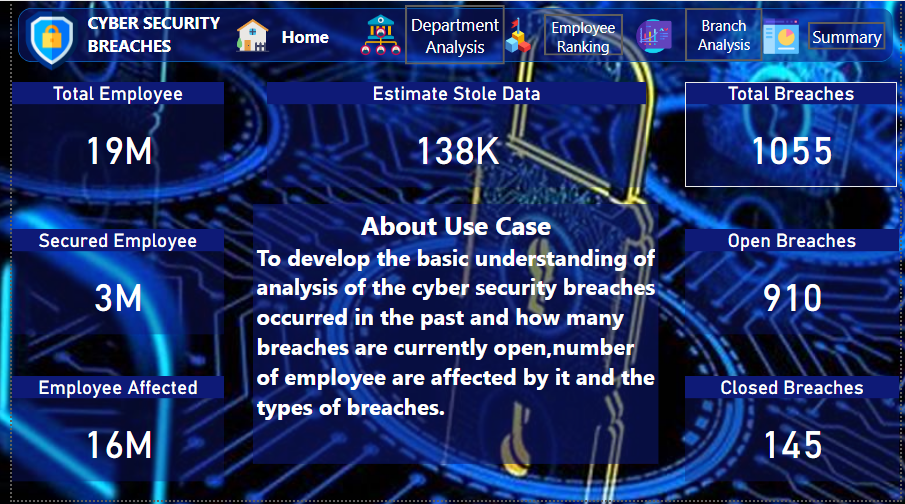

The page's visual inventory and layout, read from the dashboard file:
{"tool":"powerbi","page":{"name":"Home","canvas":[1280,720],"ordinal":0},"visuals":[{"type":"card","title":"Total Breaches","fields":{"Values":["Cyber Security Breaches.Total Breaches"]},"box":[971.1,116.8,305.8,152.1],"z":0},{"type":"card","title":"Open Breaches","fields":{"Values":["Cyber Security Breaches.Open Breaches"]},"box":[971.1,328.8,308.9,152.1],"z":1000},{"type":"card","title":"Closed Breaches","fields":{"Values":["Cyber Security Breaches.Closed Breaches"]},"box":[971.1,540.9,308.9,152.1],"z":2000},{"type":"card","title":"Estimate Stole Data","fields":{"Values":["Sum(Cyber Security Breaches.Estimate Stole Data(GB))"]},"box":[367.3,116.8,547,152.1],"z":3000},{"type":"card","title":"Employee Affected","fields":{"Values":["Cyber Security Breaches.Employee Affected"]},"box":[0,540.9,305.8,152.1],"z":4000},{"type":"card","title":"Secured Employee","fields":{"Values":["Cyber Security Breaches.Secured Employee"]},"box":[0,328.8,305.8,152.1],"z":5000},{"type":"card","title":"Total Employee","fields":{"Values":["Sum(Cyber Security Breaches.Total Indicviduals)"]},"box":[0,116.8,305.8,152.1],"z":6000},{"type":"shape","box":[9.2,10.8,1263.1,78.4],"z":7000},{"type":"image","box":[0,10.8,113.7,95.3],"z":8000},{"type":"image","box":[305.8,18.4,83,61.5],"z":9000},{"type":"image","box":[693,18.4,75.3,61.5],"z":10000},{"type":"image","box":[882,20,89.1,61.5],"z":11000},{"type":"image","box":[1066.4,20,86.1,61.5],"z":12000},{"type":"textbox","box":[104.5,10.8,201.3,95.3],"z":13000},{"type":"textbox","box":[347.3,293.5,585.5,374.9],"z":14000},{"type":"actionButton","box":[768.3,18.4,113.7,59.9],"z":15000},{"type":"actionButton","box":[971.1,10.8,112.2,76.8],"z":17000},{"type":"actionButton","box":[1147.9,30.7,112.2,40],"z":18000},{"type":"actionButton","box":[567,6.1,144.4,86.1],"z":18001},{"type":"image","box":[490.2,10.8,83,76.8],"z":18002},{"type":"textbox","box":[384.2,30.7,106,47.6],"z":18003}]}

Visuals, with their boxes on the page's 1280x720 design canvas (x1, y1, x2, y2). These are canvas units, not pixel positions in the 905x504 screenshot, which may show the page scaled, cropped or inside an application window:
"Total Breaches" card: (x1=971, y1=117, x2=1277, y2=269)
"Open Breaches" card: (x1=971, y1=329, x2=1280, y2=481)
"Closed Breaches" card: (x1=971, y1=541, x2=1280, y2=693)
"Estimate Stole Data" card: (x1=367, y1=117, x2=914, y2=269)
"Employee Affected" card: (x1=0, y1=541, x2=306, y2=693)
"Secured Employee" card: (x1=0, y1=329, x2=306, y2=481)
"Total Employee" card: (x1=0, y1=117, x2=306, y2=269)
shape: (x1=9, y1=11, x2=1272, y2=89)
image: (x1=0, y1=11, x2=114, y2=106)
image: (x1=306, y1=18, x2=389, y2=80)
image: (x1=693, y1=18, x2=768, y2=80)
image: (x1=882, y1=20, x2=971, y2=82)
image: (x1=1066, y1=20, x2=1152, y2=82)
textbox: (x1=104, y1=11, x2=306, y2=106)
textbox: (x1=347, y1=294, x2=933, y2=668)
actionButton: (x1=768, y1=18, x2=882, y2=78)
actionButton: (x1=971, y1=11, x2=1083, y2=88)
actionButton: (x1=1148, y1=31, x2=1260, y2=71)
actionButton: (x1=567, y1=6, x2=711, y2=92)
image: (x1=490, y1=11, x2=573, y2=88)
textbox: (x1=384, y1=31, x2=490, y2=78)
